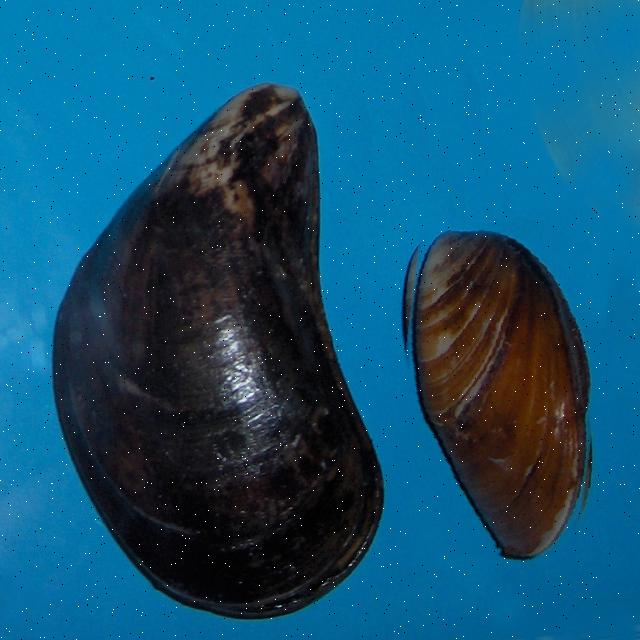Mytilus_galloprovincialis: (51, 90, 388, 622), (391, 229, 604, 565)
